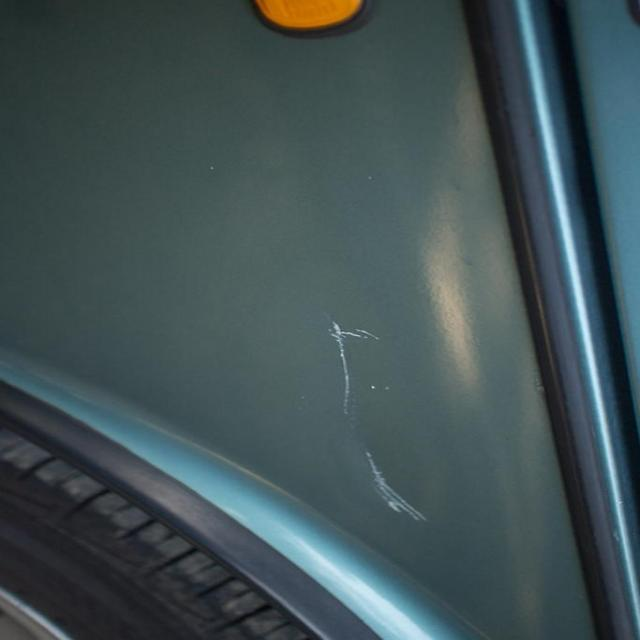scratch: (305, 314, 467, 536)
